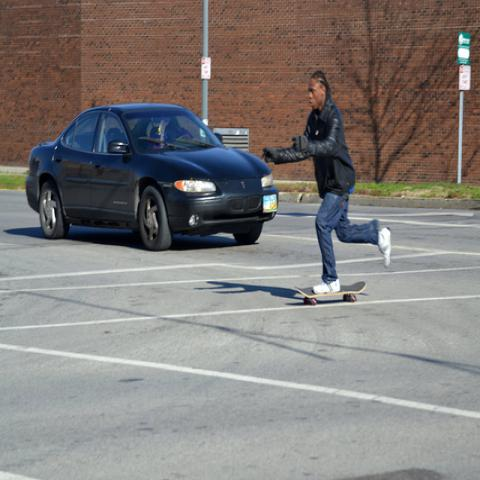car: (27, 101, 276, 250)
